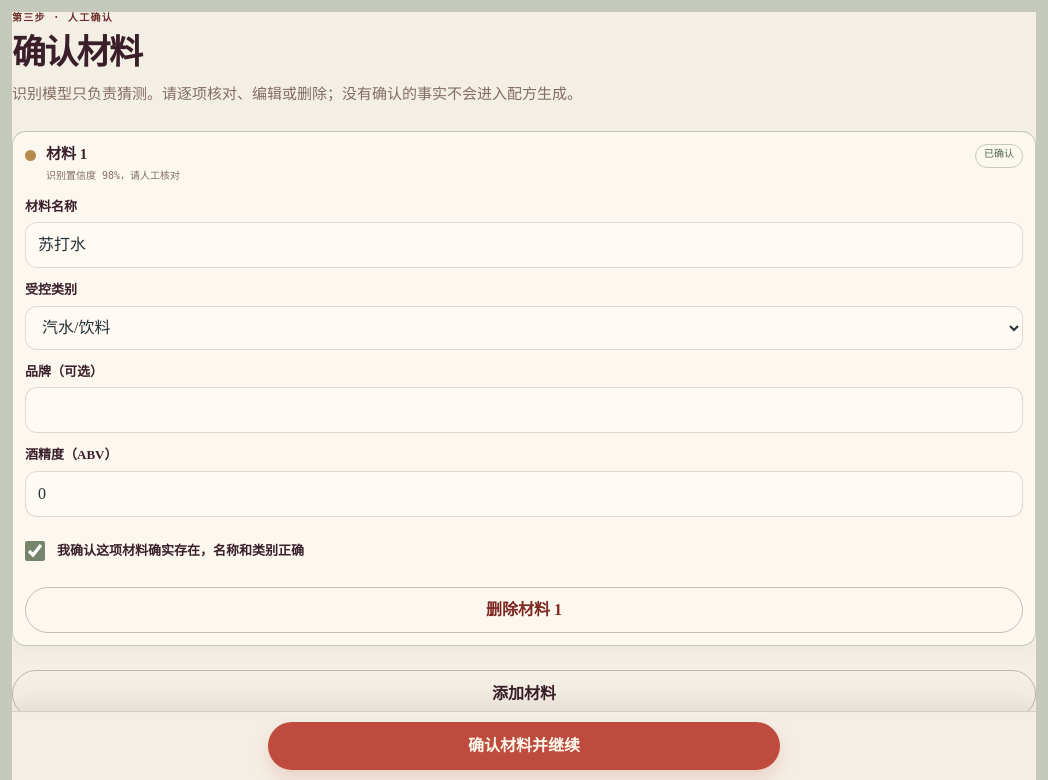
Test case: IngredientConfirmationScreen › keeps edits and exposes an accessible error when confirmation fails
Replace the text in the field named "材料 1 名称" with "苏打水（已核对）" at (524, 245), box [25, 222, 1023, 268]
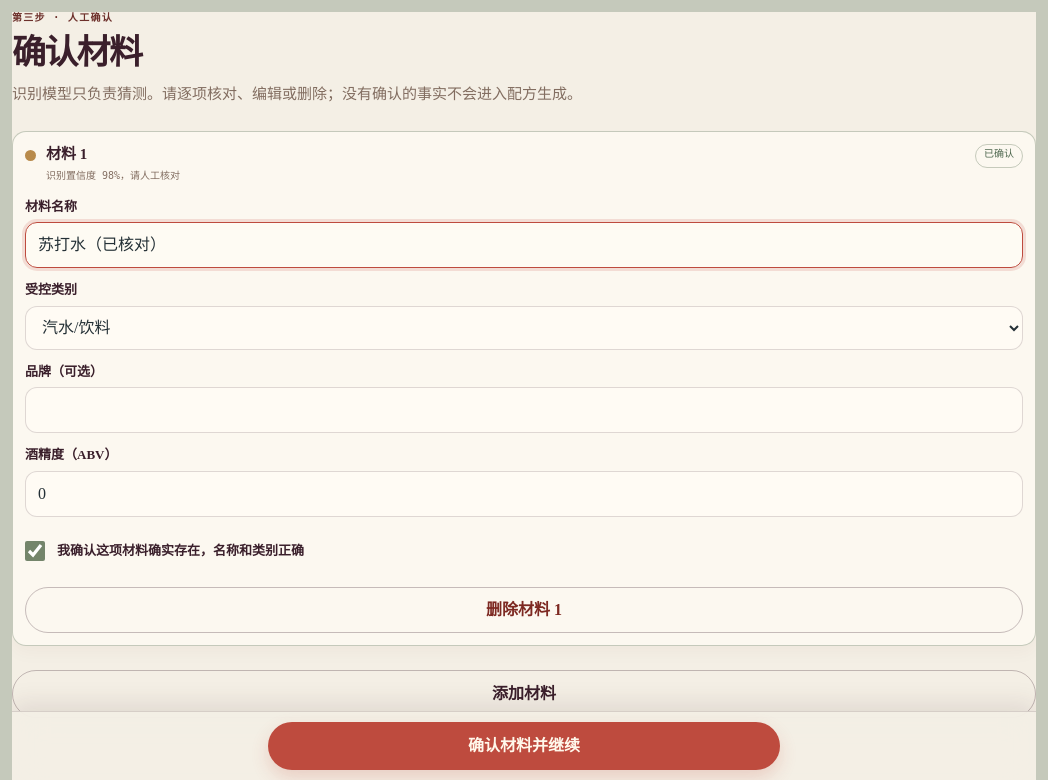
Click the button "确认材料并继续".
click(524, 746)  # box [268, 722, 780, 770]
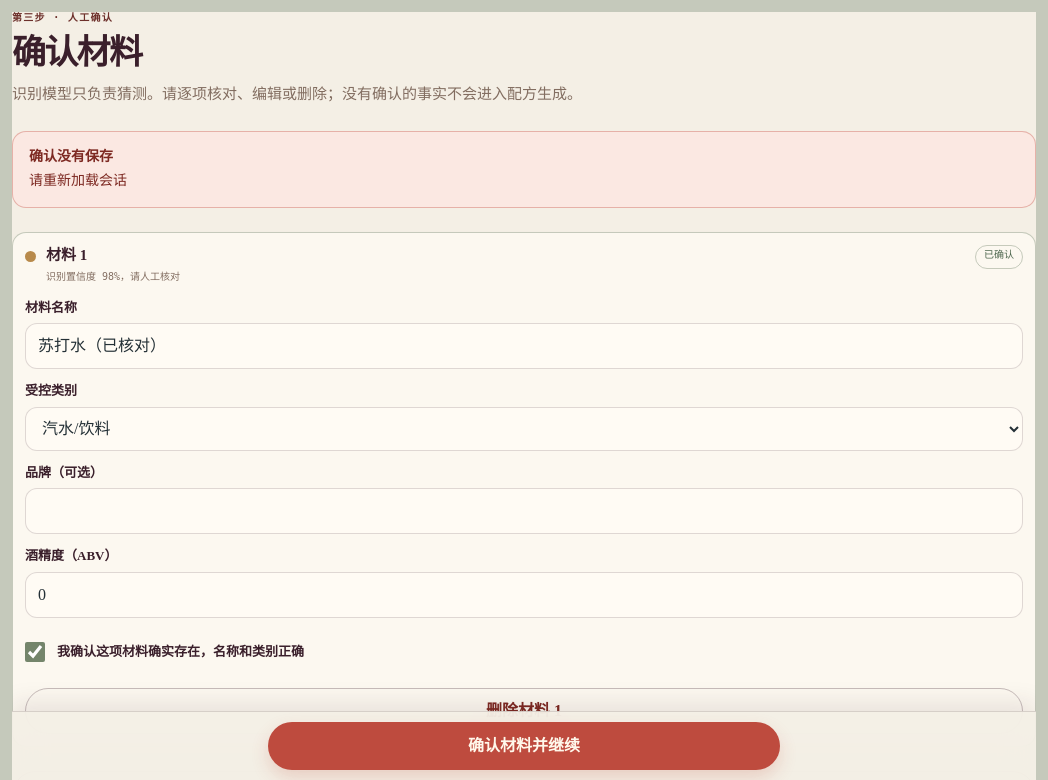
Check: the message shows "请重新加载会话", box [29, 173, 127, 188]
